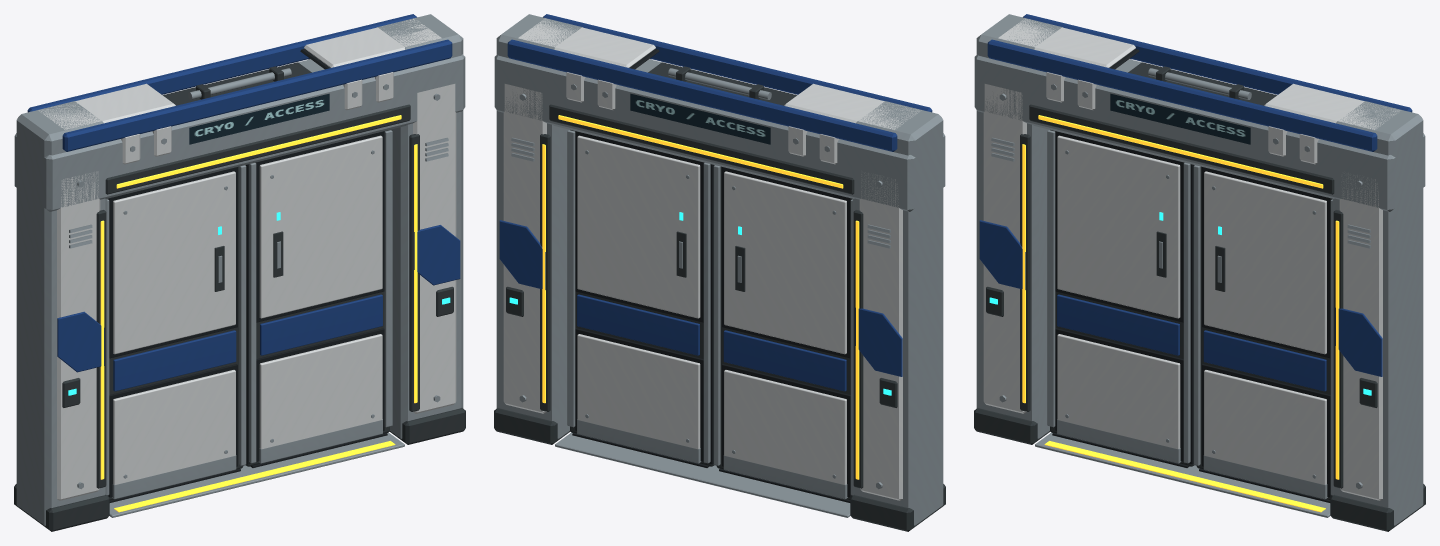
File: 06_sliding_bulkhead.gltf
3 renders of one model, left to right at view 1: azimuth 30°, elevation 25°; view 2: azimuth 150°, elevation 25°; view 3: azimuth 330°, elevation 25°, orthographic.
Parts seen in each view (by area): view 1: 06_Cryo_Brushed_Steel.002, 06_Cryo_Ceramic_Enamel.001, 06_Cryo_Ceramic_Enamel, 06_Cryo_Ceramic_Enamel.002, 06_Cryo_Cobalt_Enamel.002, 06_Cryo_Anodized_Frame.002, 06_Cryo_Brushed_Steel.001, 06_Cryo_Amber_Status, 06_Cryo_Brushed_Steel, 06_Cryo_EPDM_Gasket.001, 06_Cryo_Cobalt_Enamel, 06_Cryo_Cobalt_Enamel.001 (+4 smaller); view 2: 06_Cryo_Brushed_Steel.002, 06_Cryo_Ceramic_Enamel.001, 06_Cryo_Ceramic_Enamel, 06_Cryo_Ceramic_Enamel.002, 06_Cryo_Cobalt_Enamel.002, 06_Cryo_Anodized_Frame.002, 06_Cryo_Brushed_Steel.001, 06_Cryo_Brushed_Steel, 06_Cryo_EPDM_Gasket.001, 06_Cryo_Cobalt_Enamel, 06_Cryo_Cobalt_Enamel.001, 06_Cryo_Amber_Status (+4 smaller); view 3: 06_Cryo_Brushed_Steel.002, 06_Cryo_Ceramic_Enamel, 06_Cryo_Ceramic_Enamel.001, 06_Cryo_Ceramic_Enamel.002, 06_Cryo_Cobalt_Enamel.002, 06_Cryo_Anodized_Frame.002, 06_Cryo_Brushed_Steel, 06_Cryo_Amber_Status, 06_Cryo_Brushed_Steel.001, 06_Cryo_EPDM_Gasket, 06_Cryo_Cobalt_Enamel.001, 06_Cryo_Cobalt_Enamel (+4 smaller).
Part boxes in pixels (x1,y1,x2,y2): 06_Cryo_Brushed_Steel.002: [14, 14, 465, 525]; 06_Cryo_Ceramic_Enamel.001: [259, 135, 382, 448]; 06_Cryo_Ceramic_Enamel: [113, 171, 235, 484]; 06_Cryo_Ceramic_Enamel.002: [38, 18, 456, 500]; 06_Cryo_Cobalt_Enamel.002: [27, 14, 460, 372]; 06_Cryo_Anodized_Frame.002: [14, 62, 465, 531]; 06_Cryo_Brushed_Steel.001: [249, 130, 392, 463]; 06_Cryo_Amber_Status: [100, 115, 417, 512]; 06_Cryo_Brushed_Steel: [107, 165, 246, 499]; 06_Cryo_EPDM_Gasket.001: [246, 131, 387, 467]; 06_Cryo_Cobalt_Enamel: [113, 330, 236, 391]; 06_Cryo_Cobalt_Enamel.001: [260, 294, 382, 355]; 06_Cryo_Brushed_Steel.002: [494, 14, 945, 525]; 06_Cryo_Ceramic_Enamel.001: [577, 135, 700, 449]; 06_Cryo_Ceramic_Enamel: [724, 171, 846, 484]; 06_Cryo_Ceramic_Enamel.002: [503, 18, 921, 500]; 06_Cryo_Cobalt_Enamel.002: [499, 14, 932, 376]; 06_Cryo_Anodized_Frame.002: [494, 62, 945, 531]; 06_Cryo_Brushed_Steel.001: [567, 130, 710, 463]; 06_Cryo_Brushed_Steel: [713, 165, 852, 499]; 06_Cryo_EPDM_Gasket.001: [572, 131, 713, 467]; 06_Cryo_Cobalt_Enamel: [723, 330, 846, 391]; 06_Cryo_Cobalt_Enamel.001: [577, 294, 699, 355]; 06_Cryo_Amber_Status: [542, 115, 859, 479]; 06_Cryo_Brushed_Steel.002: [974, 14, 1425, 525]; 06_Cryo_Ceramic_Enamel: [1057, 135, 1180, 448]; 06_Cryo_Ceramic_Enamel.001: [1204, 171, 1326, 484]; 06_Cryo_Ceramic_Enamel.002: [983, 18, 1400, 500]; 06_Cryo_Cobalt_Enamel.002: [979, 14, 1412, 376]; 06_Cryo_Anodized_Frame.002: [974, 62, 1425, 531]; 06_Cryo_Brushed_Steel: [1047, 130, 1190, 463]; 06_Cryo_Amber_Status: [1022, 115, 1339, 512]; 06_Cryo_Brushed_Steel.001: [1193, 165, 1332, 499]; 06_Cryo_EPDM_Gasket: [1052, 131, 1193, 467]; 06_Cryo_Cobalt_Enamel.001: [1203, 330, 1326, 391]; 06_Cryo_Cobalt_Enamel: [1057, 294, 1179, 355].
Size of the model in its own units: 4 by 3.6 by 0.65.
Materials: 8 (6 with a texture image).
